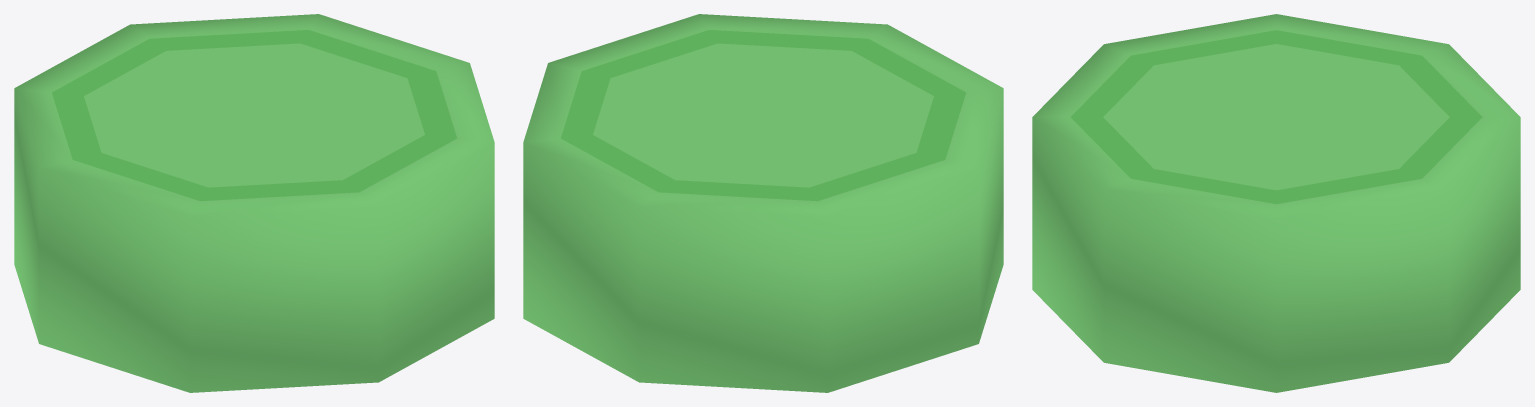
The model's file is bingo_chip.glb.
The picture shows the model from 3 angles, left to right: view 1: azimuth 30°, elevation 25°; view 2: azimuth 150°, elevation 25°; view 3: azimuth 270°, elevation 25°; orthographic projection.
Visible parts, largest first — view 1: Plane.010; view 2: Plane.010; view 3: Plane.010.
Part boxes in pixels (x1,y1,x2,y2): Plane.010: [14, 14, 494, 392]; Plane.010: [523, 14, 1003, 392]; Plane.010: [1032, 14, 1520, 392].
Size of the model in its own units: 0.1601 by 0.0625 by 0.1601.
1 material, 1 textured.
